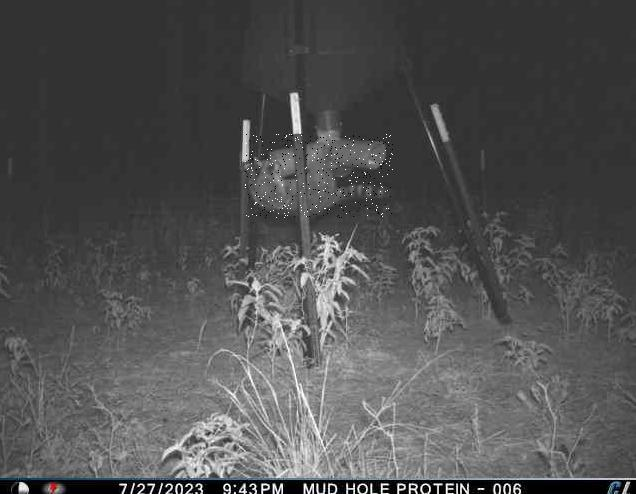Raccoon: (245, 135, 393, 219)
